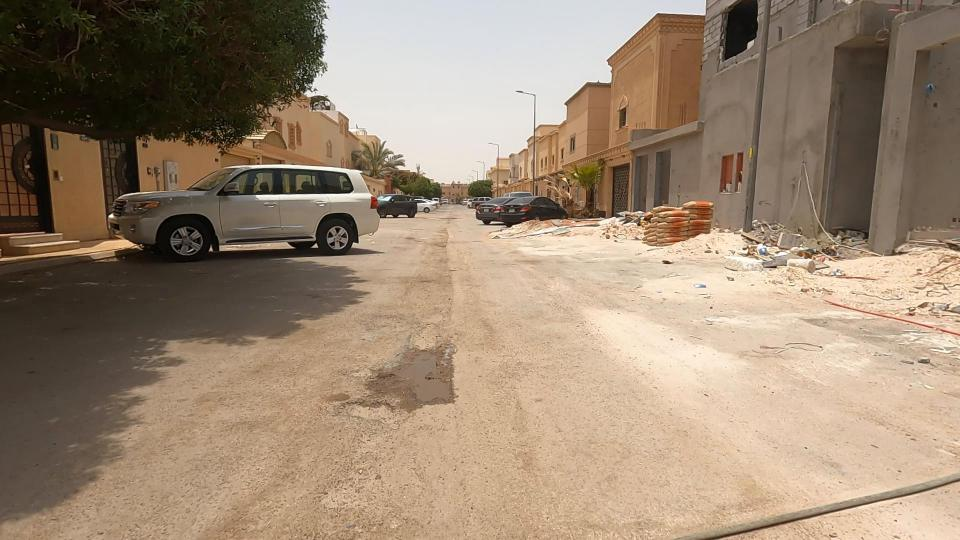GARBAGE: (675, 166, 902, 328), (577, 179, 666, 264), (495, 198, 602, 259)
POTHOLES: (283, 273, 541, 474)
SAND_ON_ROAD: (670, 204, 741, 288)
